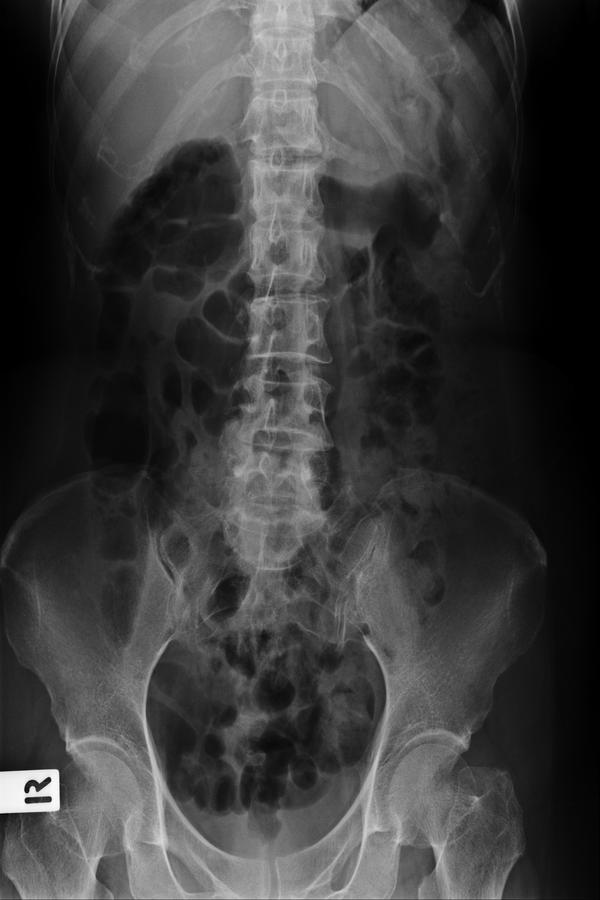not lumbar scoliosis: (226, 193, 340, 555)
